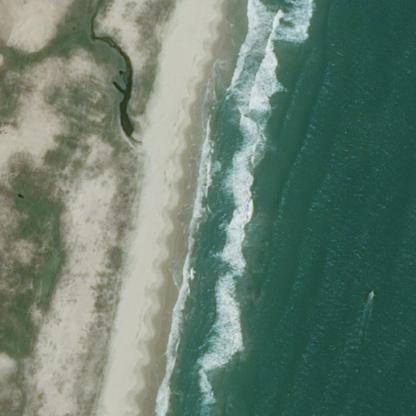ship: (369, 287, 373, 291)
